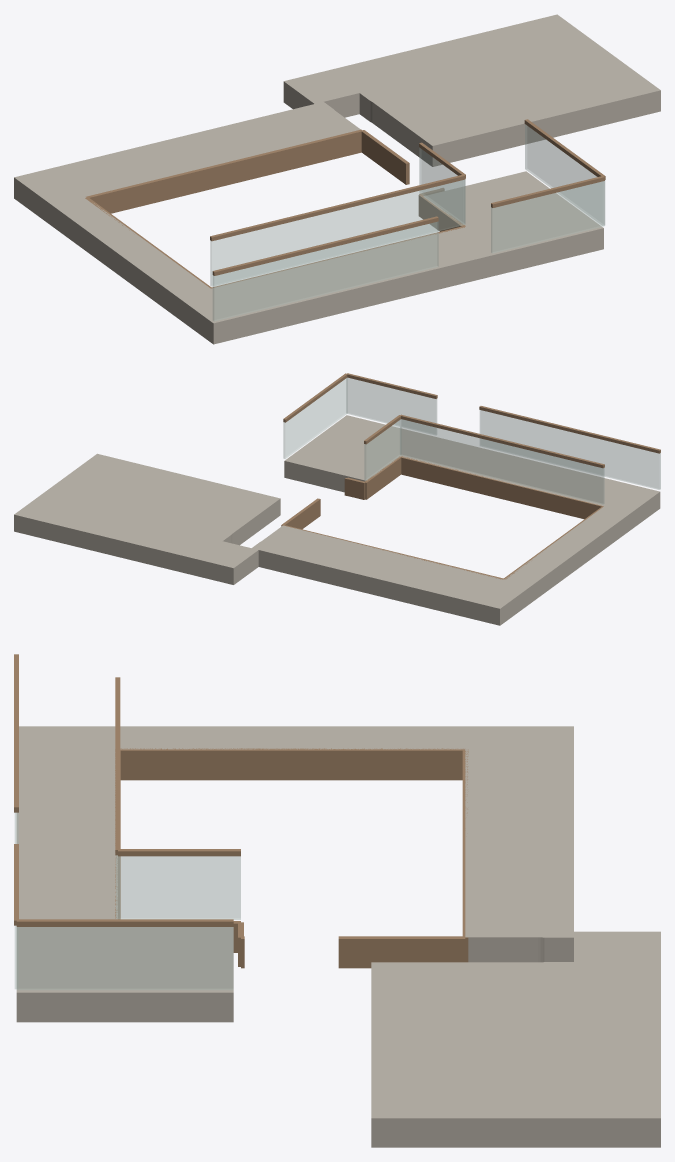
Rendered from PERIMETER_787_r001.glb.
3 renders of one model, top to bottom at view 1: azimuth 30°, elevation 25°; view 2: azimuth 150°, elevation 25°; view 3: azimuth 270°, elevation 25°, orthographic. The views are drawn at different scales.
Visible parts, largest first — view 1: G2P_787_TERRACE_00, G2P_787_RearGuardGlass_0, G2P_787_OuterGuard_2, G2P_787_PitEdge_0_0, G2P_787_OuterGuard_1, G2P_787_OuterGuard_0, G2P_787_RearGuardGlass_1, G2P_787_RearGuardRail_0, G2P_787_OuterRail_2, G2P_787_PitEdge_5_0, G2P_787_PitEdge_3_0, G2P_787_OuterRail_1 (+1 smaller); view 2: G2P_787_TERRACE_00, G2P_787_RearGuardGlass_0, G2P_787_OuterGuard_2, G2P_787_PitEdge_2_0, G2P_787_OuterGuard_1, G2P_787_OuterGuard_0, G2P_787_RearGuardGlass_1, G2P_787_RearGuardRail_0, G2P_787_OuterRail_2, G2P_787_PitEdge_3_0, G2P_787_PitEdge_5_0, G2P_787_OuterRail_1 (+2 smaller); view 3: G2P_787_TERRACE_00, G2P_787_OuterGuard_0, G2P_787_PitEdge_1_0, G2P_787_RearGuardGlass_1, G2P_787_PitEdge_5_0, G2P_787_OuterRail_0, G2P_787_RearGuardRail_0, G2P_787_RearGuardRail_1, G2P_787_PitEdge_0_0, G2P_787_OuterRail_2.
Part boxes in pixels (x1=…): G2P_787_TERRACE_00: x1=14, y1=14, x2=660, y2=344; G2P_787_RearGuardGlass_0: x1=210, y1=180, x2=464, y2=286; G2P_787_OuterGuard_2: x1=213, y1=222, x2=438, y2=321; G2P_787_PitEdge_0_0: x1=86, y1=129, x2=362, y2=213; G2P_787_OuterGuard_1: x1=491, y1=181, x2=604, y2=253; G2P_787_OuterGuard_0: x1=525, y1=124, x2=604, y2=225; G2P_787_RearGuardGlass_1: x1=419, y1=148, x2=465, y2=224; G2P_787_RearGuardRail_0: x1=210, y1=174, x2=465, y2=241; G2P_787_OuterRail_2: x1=212, y1=216, x2=438, y2=275; G2P_787_PitEdge_5_0: x1=361, y1=130, x2=409, y2=184; G2P_787_PitEdge_3_0: x1=418, y1=194, x2=465, y2=231; G2P_787_OuterRail_1: x1=491, y1=176, x2=604, y2=207; G2P_787_TERRACE_00: x1=14, y1=415, x2=660, y2=625; G2P_787_RearGuardGlass_0: x1=400, y1=419, x2=604, y2=504; G2P_787_OuterGuard_2: x1=480, y1=410, x2=660, y2=489; G2P_787_PitEdge_2_0: x1=401, y1=456, x2=601, y2=519; G2P_787_OuterGuard_1: x1=346, y1=378, x2=436, y2=434; G2P_787_OuterGuard_0: x1=283, y1=378, x2=347, y2=458; G2P_787_RearGuardGlass_1: x1=364, y1=419, x2=401, y2=480; G2P_787_RearGuardRail_0: x1=400, y1=414, x2=604, y2=468; G2P_787_OuterRail_2: x1=479, y1=406, x2=660, y2=453; G2P_787_PitEdge_3_0: x1=364, y1=456, x2=401, y2=499; G2P_787_PitEdge_5_0: x1=281, y1=498, x2=320, y2=529; G2P_787_OuterRail_1: x1=347, y1=373, x2=437, y2=398; G2P_787_TERRACE_00: x1=16, y1=726, x2=660, y2=1147; G2P_787_OuterGuard_0: x1=17, y1=927, x2=233, y2=989; G2P_787_PitEdge_1_0: x1=120, y1=748, x2=465, y2=780; G2P_787_RearGuardGlass_1: x1=118, y1=856, x2=240, y2=919; G2P_787_PitEdge_5_0: x1=338, y1=936, x2=465, y2=968; G2P_787_OuterRail_0: x1=16, y1=919, x2=233, y2=926; G2P_787_RearGuardRail_0: x1=115, y1=677, x2=120, y2=855; G2P_787_RearGuardRail_1: x1=118, y1=849, x2=240, y2=856; G2P_787_PitEdge_0_0: x1=462, y1=749, x2=468, y2=962; G2P_787_OuterRail_2: x1=14, y1=654, x2=18, y2=812.
Bounding box in the file's own units: 12.8 × 1.55 × 8.93.
